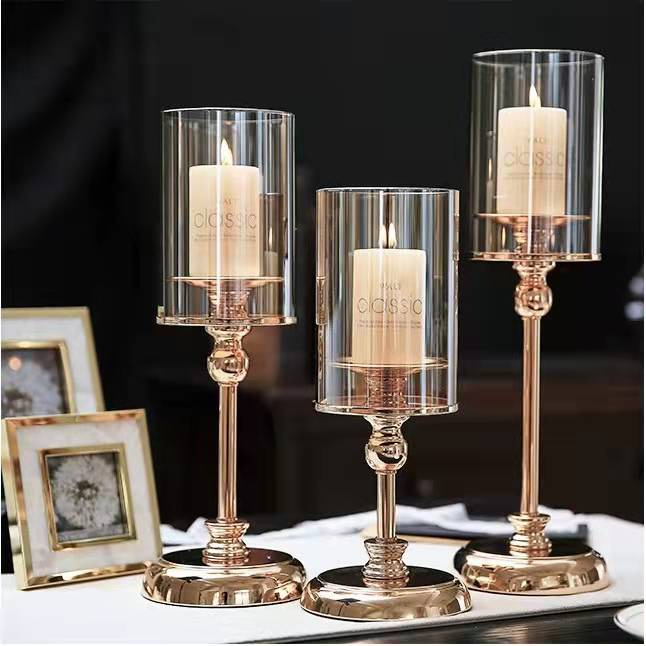Open-Flame-Hazard: (305, 169, 462, 437), (454, 30, 616, 286), (152, 79, 304, 346)
